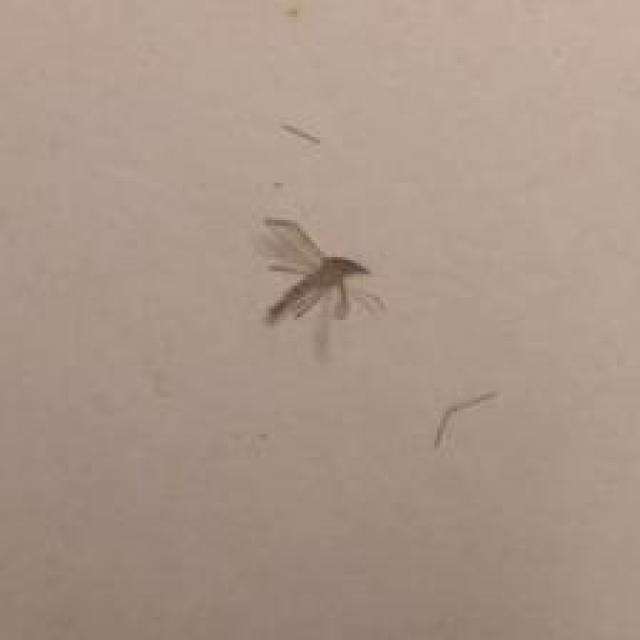Culex: (260, 214, 386, 357)
